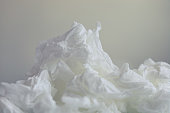Tissue: (1, 20, 170, 113)
